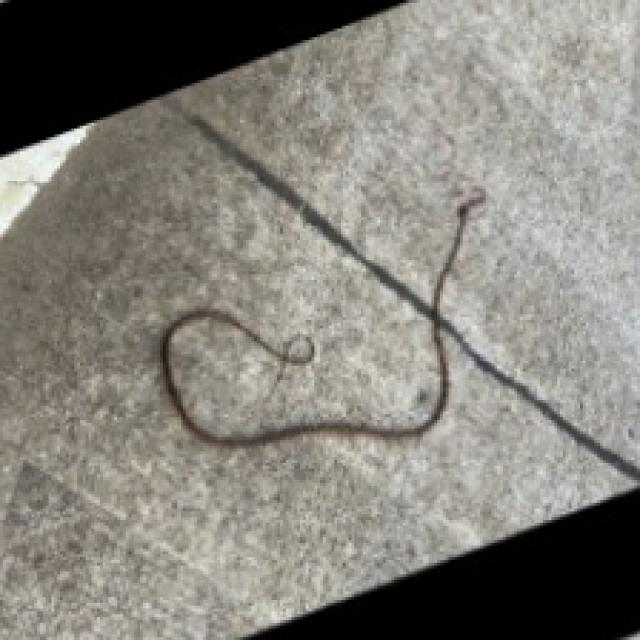philippine blunt-headed catsnake: (160, 186, 483, 443)
